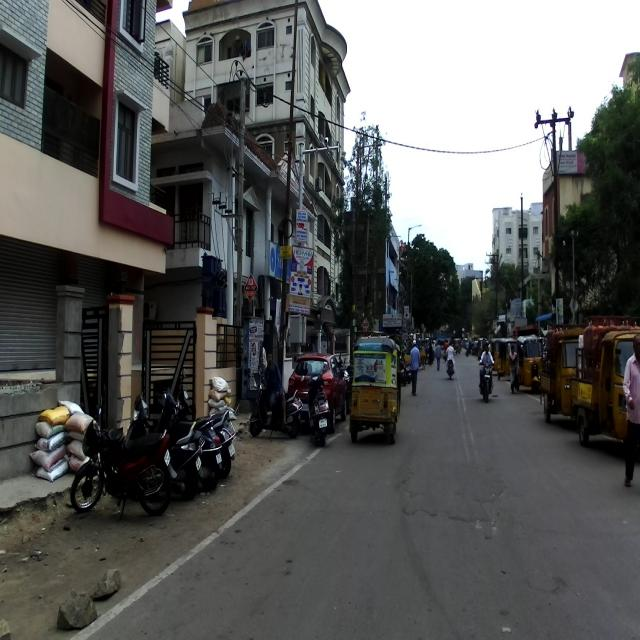autorickshaw: (570, 309, 640, 446), (348, 338, 402, 444)
motorcycle_Hero: (70, 394, 176, 519)
scooter: (155, 386, 222, 489), (175, 368, 236, 477), (248, 362, 302, 437), (300, 361, 330, 447)
